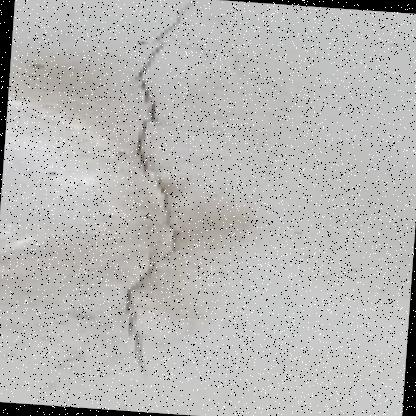Crack: (1, 0, 325, 415)
